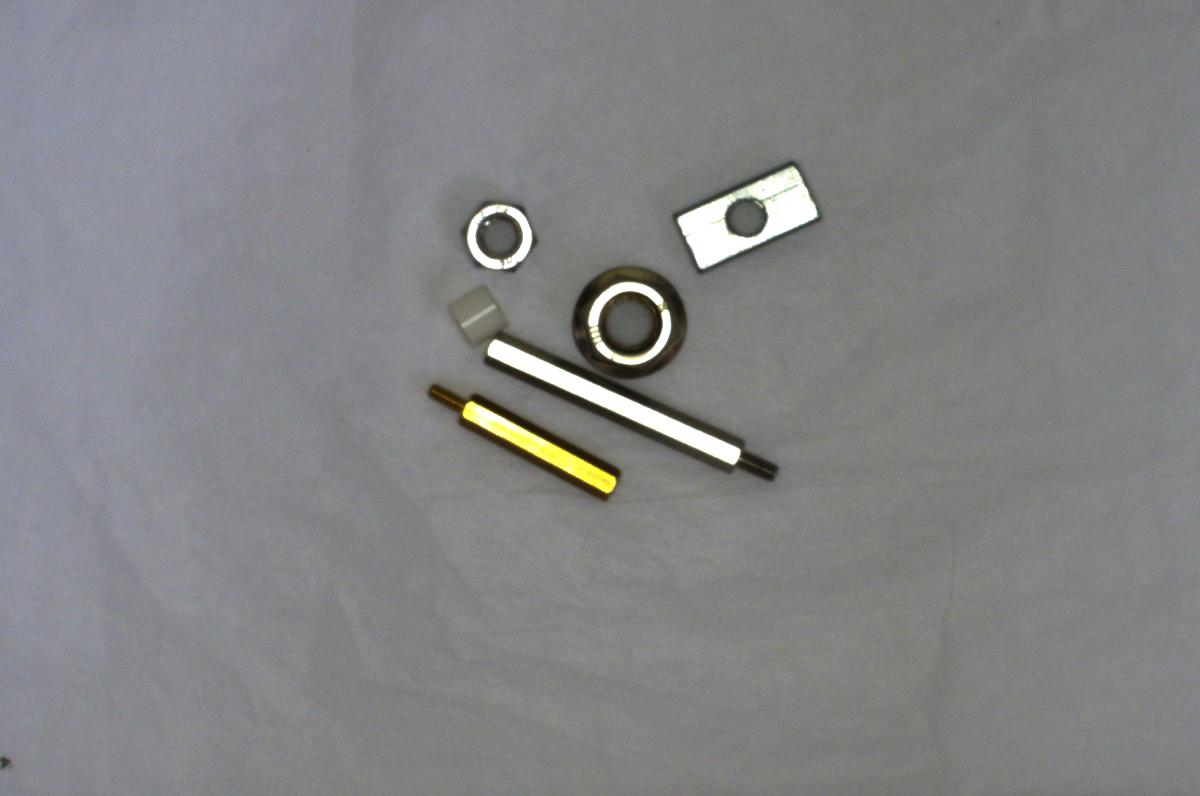Flange nut: (559, 258, 698, 379)
Hexagon nut: (453, 192, 546, 279)
Hexagon pillar: (420, 379, 621, 505)
Hexagonal steel column: (478, 333, 784, 486)
Plastic cushion pillar: (437, 279, 507, 346)
Rectangular nut: (672, 154, 830, 270)
